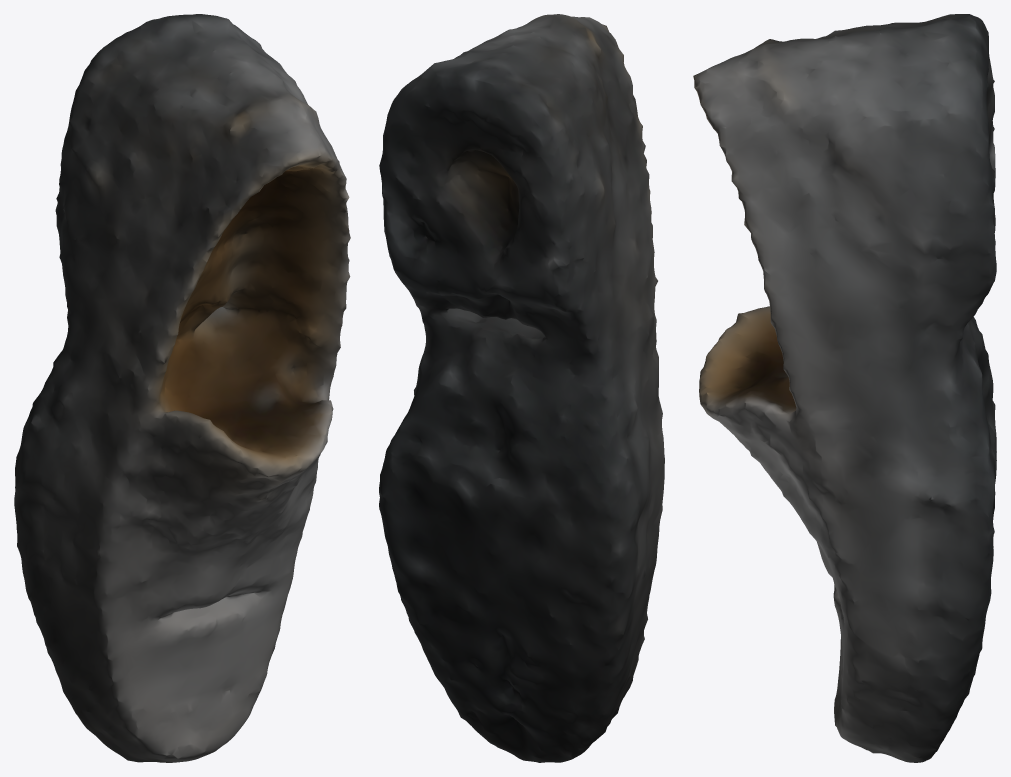
Rendered from leather.glb.
3 renders of one model, left to right at view 1: azimuth 30°, elevation 25°; view 2: azimuth 150°, elevation 25°; view 3: azimuth 270°, elevation 25°, orthographic. The views are drawn at different scales.
Bounding box in the file's own units: 0.3648 × 0.996 × 0.3674.
